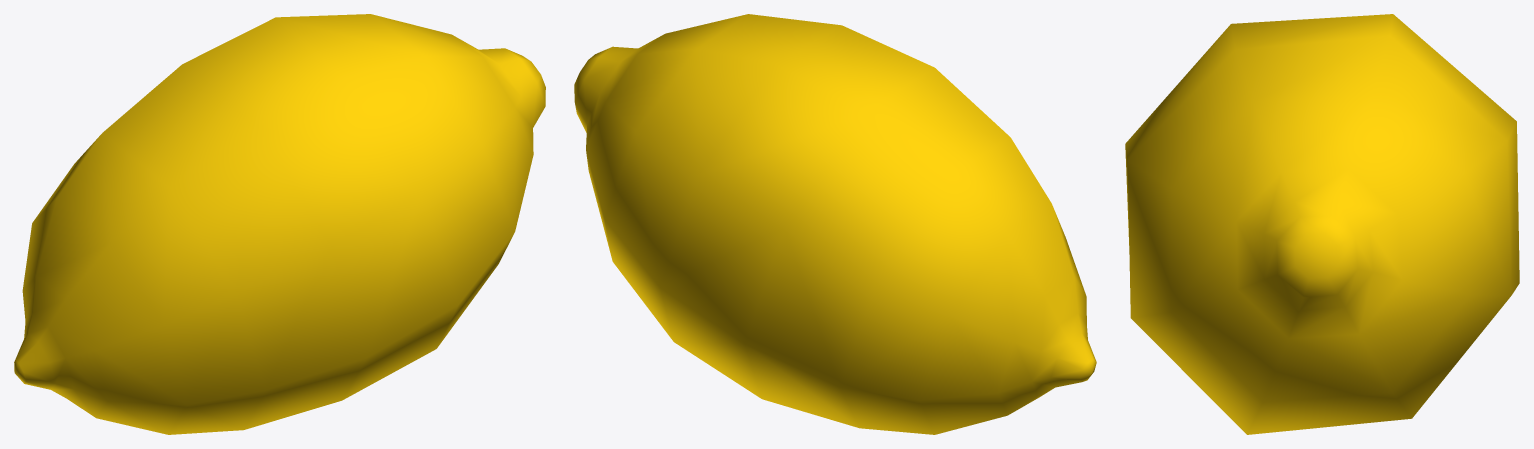
The model's file is Limon.fbx.
3 views of the same model, side by side, from view 1: azimuth 30°, elevation 25°; view 2: azimuth 150°, elevation 25°; view 3: azimuth 270°, elevation 25° (orthographic). The views are drawn at different scales.
Parts seen in each view (by area): view 1: HamLimon; view 2: HamLimon; view 3: HamLimon.
Part boxes in pixels (x1,y1,x2,y2): HamLimon: [14, 14, 545, 434]; HamLimon: [574, 14, 1096, 434]; HamLimon: [1125, 14, 1519, 434].
Size of the model in its own units: 0.4044 by 0.2578 by 0.2363.
1 material, 1 textured.
